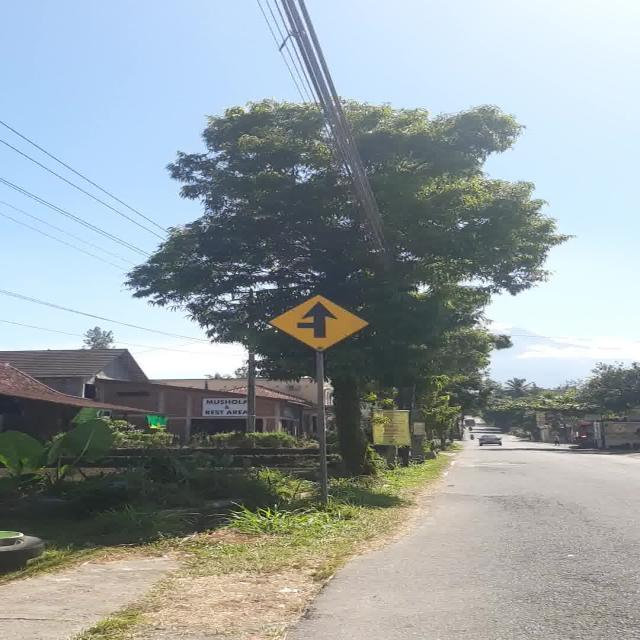Persimpangan 3 Prioritas Kiri: (264, 293, 370, 352)
